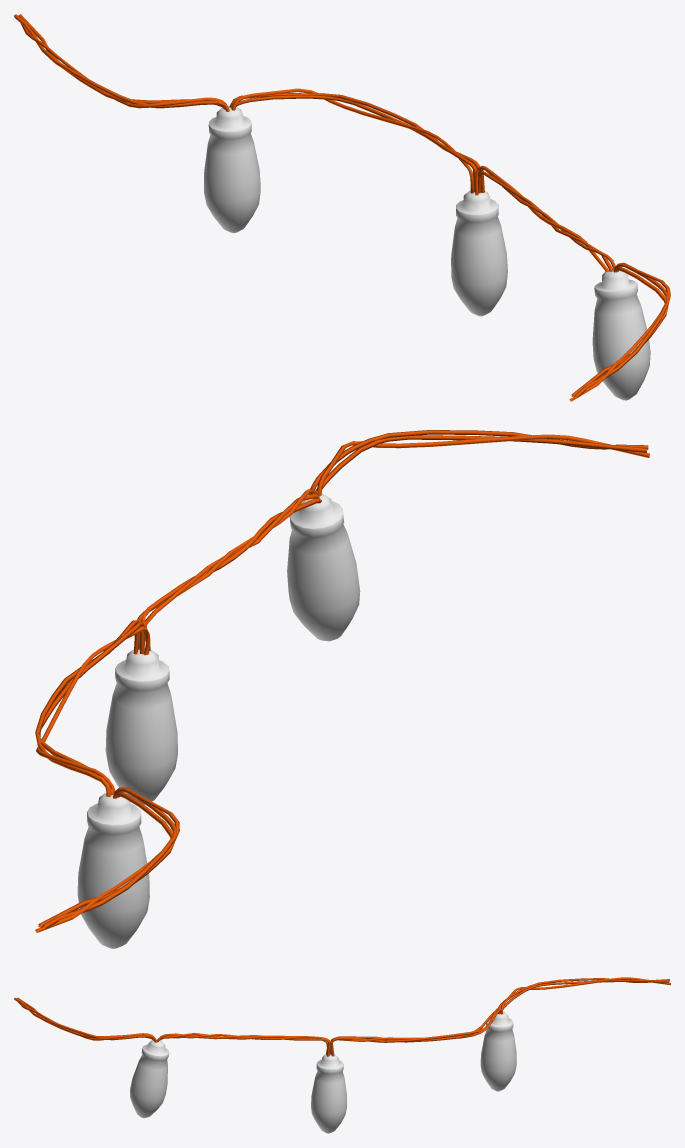
The model's file is Lightstrip.fbx.
3 views of the same model, one above another, from view 1: azimuth 30°, elevation 25°; view 2: azimuth 150°, elevation 25°; view 3: azimuth 270°, elevation 25° (orthographic). The views are drawn at different scales.
Parts seen in each view (by area): view 1: LightStrip; view 2: LightStrip; view 3: LightStrip.
Boxes of the visible parts, x1,y1,x2,y2 form: LightStrip: (14,14,670,401); LightStrip: (35,430,649,948); LightStrip: (14,977,670,1133).
Size of the model in its own units: 920 by 602 by 3584.
